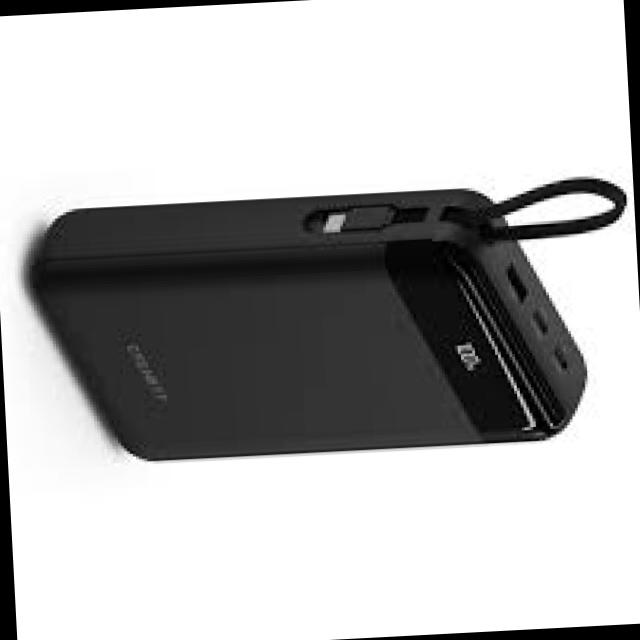power_bank: (21, 178, 596, 472)
